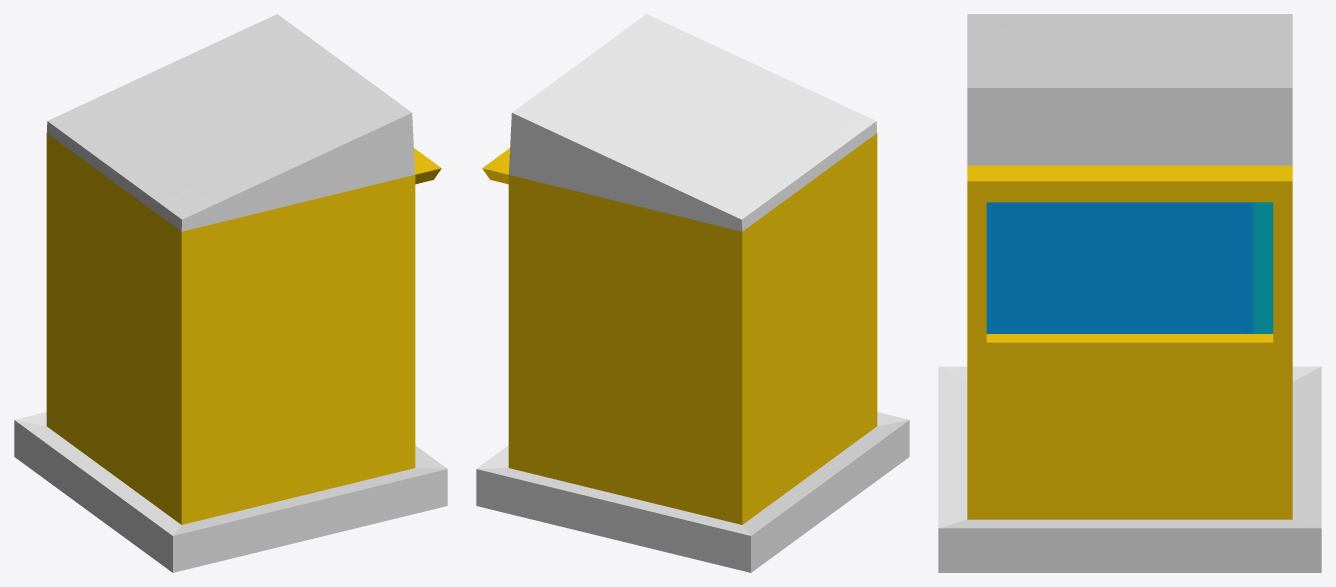
Rendered from muff_1_world_ap_0_lev1.glb.
The picture shows the model from 3 angles, left to right: view 1: azimuth 30°, elevation 25°; view 2: azimuth 150°, elevation 25°; view 3: azimuth 270°, elevation 25°; orthographic projection. The views are drawn at different scales.
Parts seen in each view (by area): view 1: muff_1_world_ap_0_lev1; view 2: muff_1_world_ap_0_lev1; view 3: muff_1_world_ap_0_lev1.
Boxes of the visible parts, box(x1,y1,x2,y2) form: muff_1_world_ap_0_lev1: box(14, 14, 447, 572); muff_1_world_ap_0_lev1: box(476, 14, 909, 572); muff_1_world_ap_0_lev1: box(938, 14, 1321, 572).
Size of the model in its own units: 0.8467 by 1.12 by 0.8286.
Materials: 1 (1 with a texture image).
